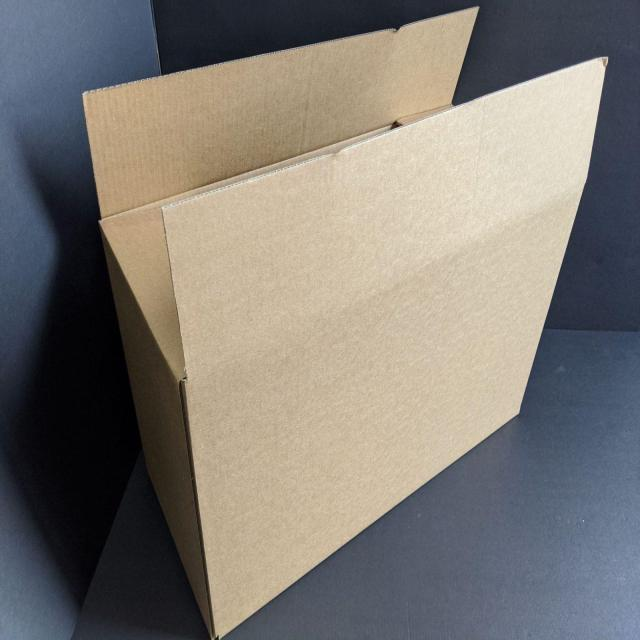Garbage: (82, 6, 608, 640)
